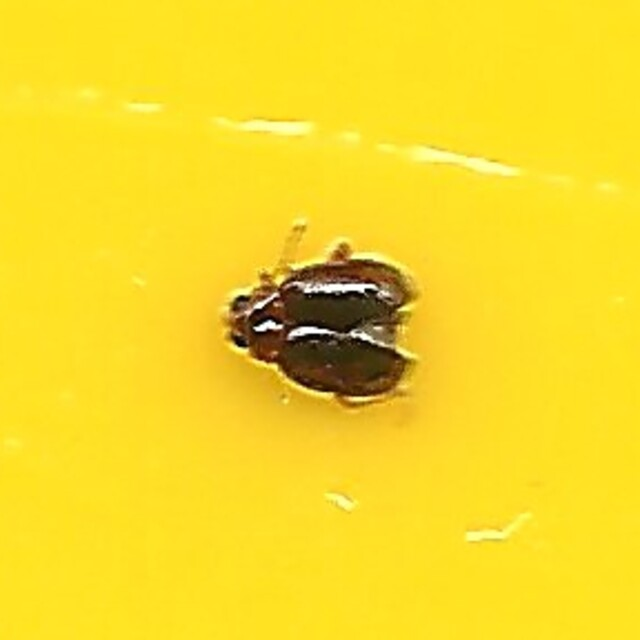Coleoptera: (222, 225, 418, 415)
